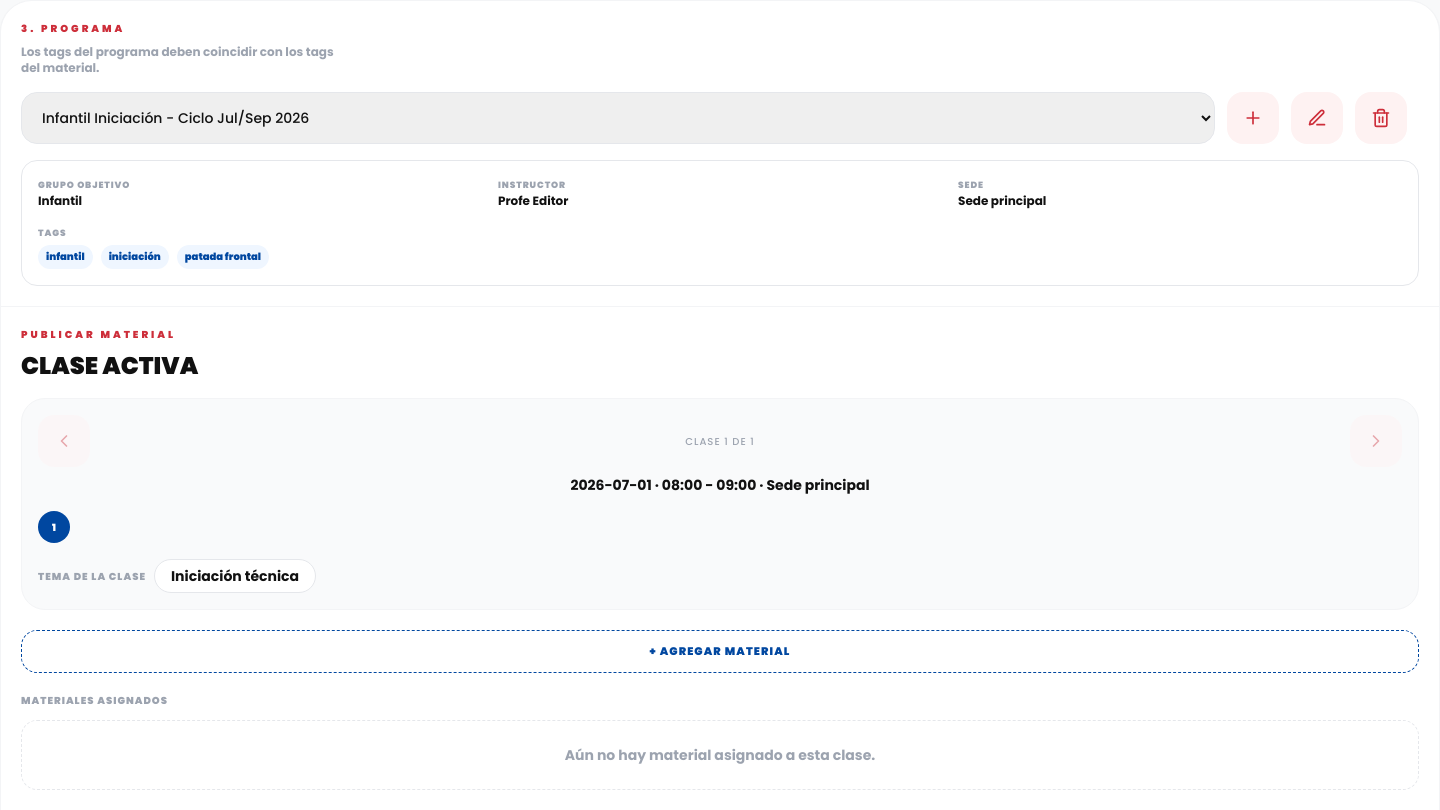
it: AsignacionesView - seleccion de instructor por rol (Fix 1) › Editor ve el instructor bloqueado a si mismo, sin poder elegir otro
Click the button named "crear programa". click: (1253, 118)
box: [1227, 92, 1279, 144]
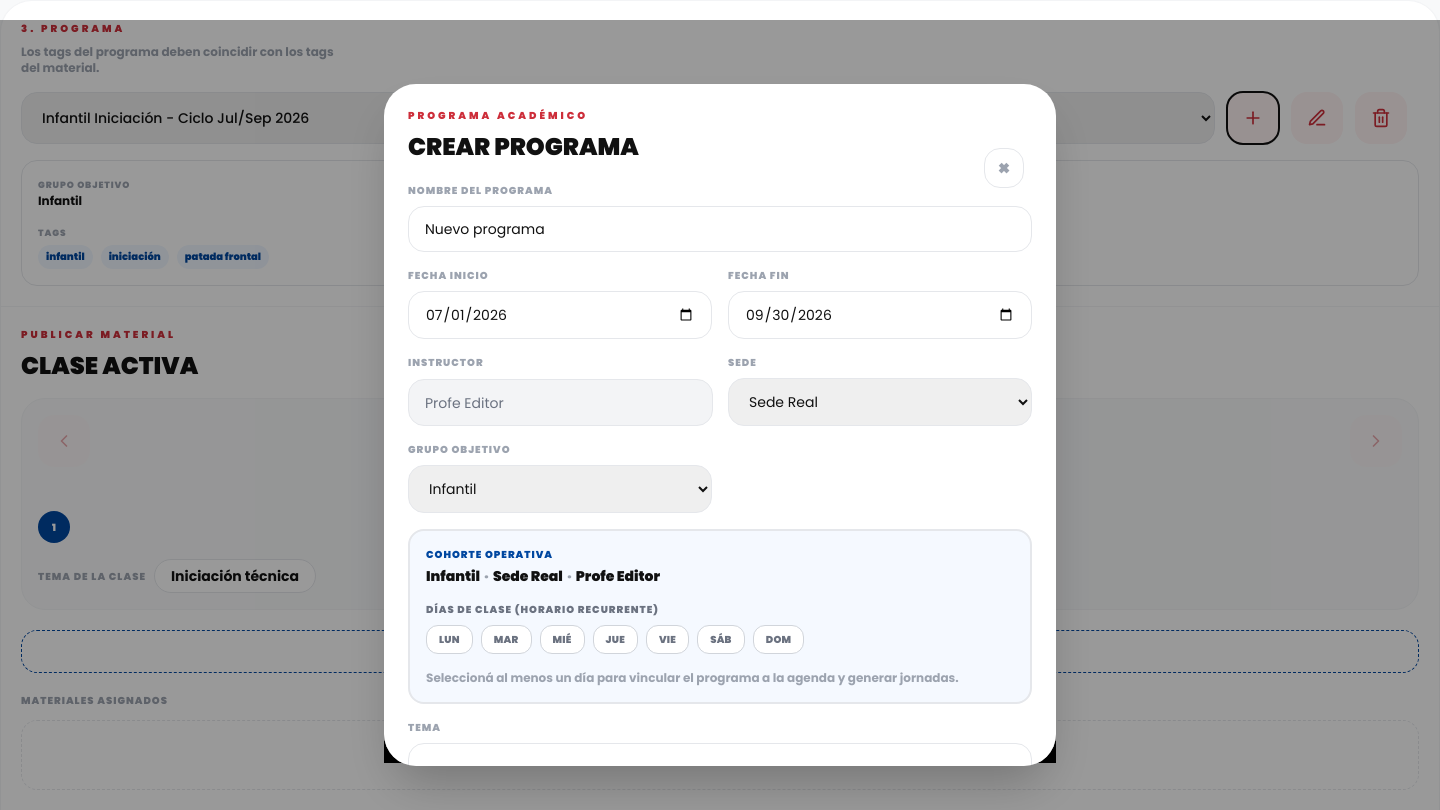
Expected: the field labelled "Instructor" is disabled, [408, 379, 713, 426]
Expected: the field labelled "Instructor" holds "Profe Editor", [408, 379, 713, 426]
